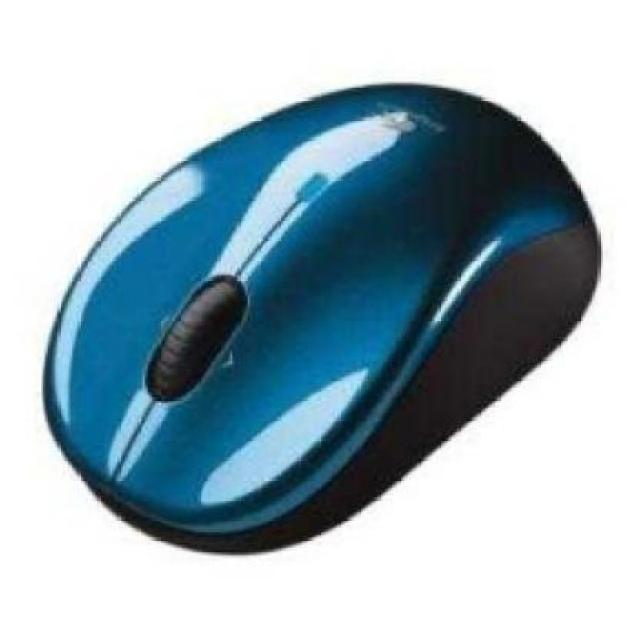mause: (42, 98, 613, 613)
